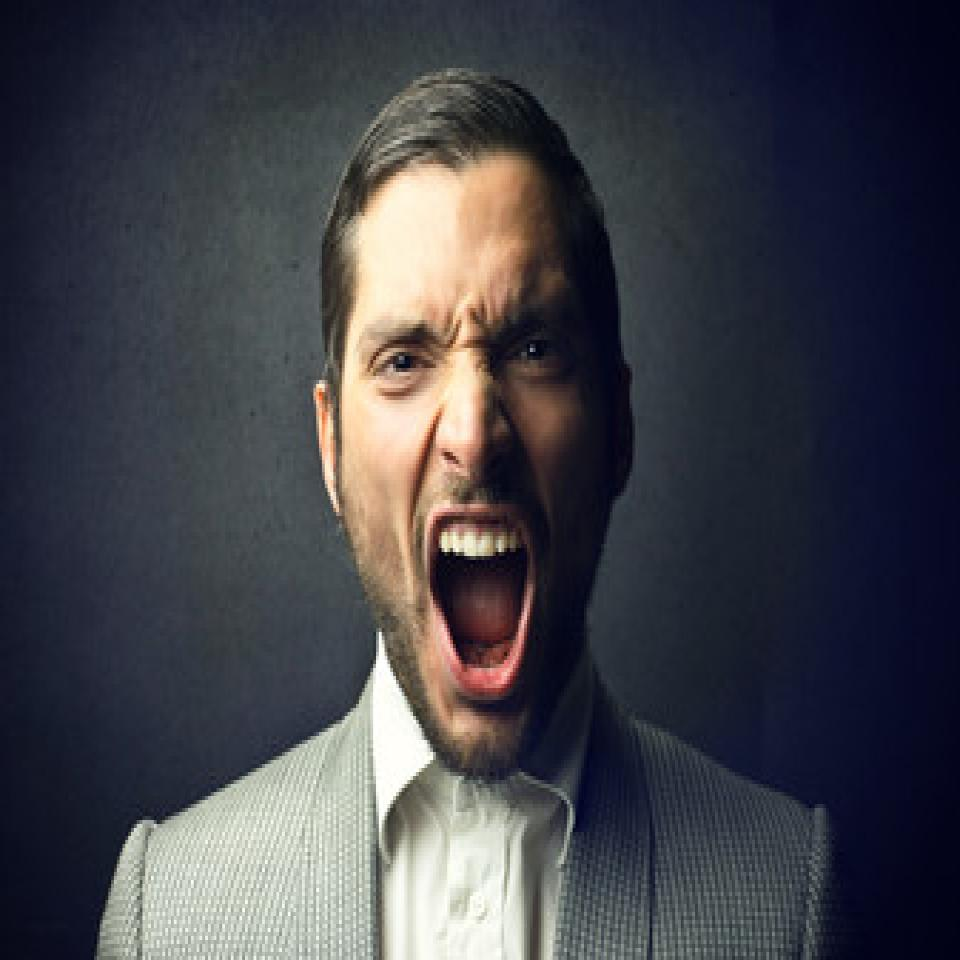Anger: (337, 220, 603, 739)
